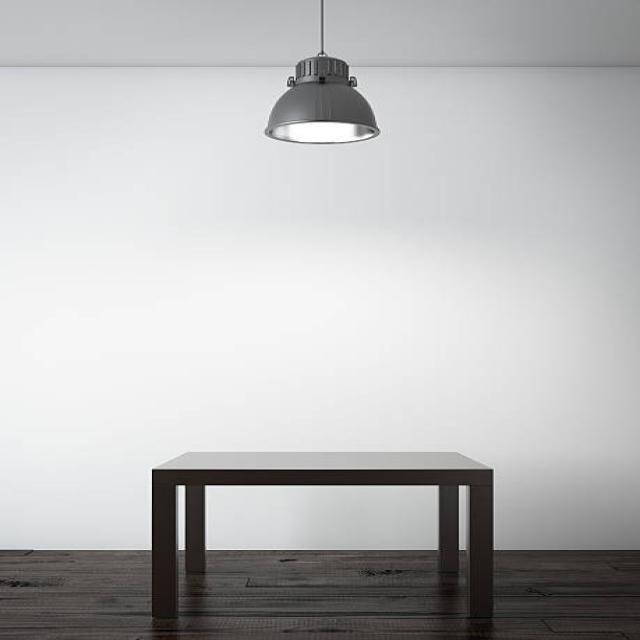table: (149, 450, 495, 620)
